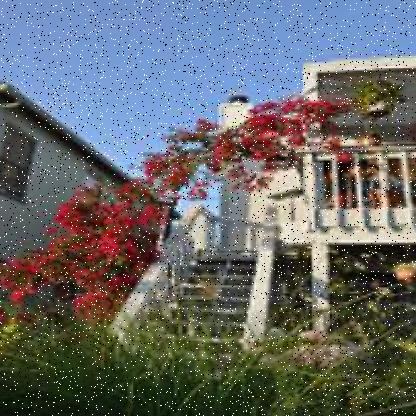stair_up: (140, 214, 258, 367)
